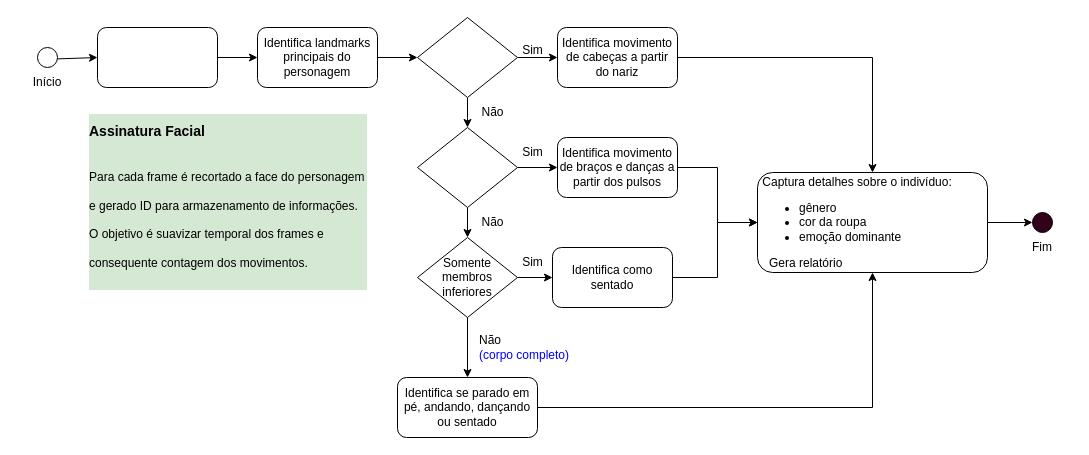
The diagram is 1089 pixels wide and 455 high, and some of its shapes have lost their labels. Each missing label, with the box of its shape:
Gera Assinatura Facial: (96, 26, 218, 88)
Somente Cabeça?: (416, 16, 518, 98)
Somente membros superiores: (416, 126, 518, 208)
